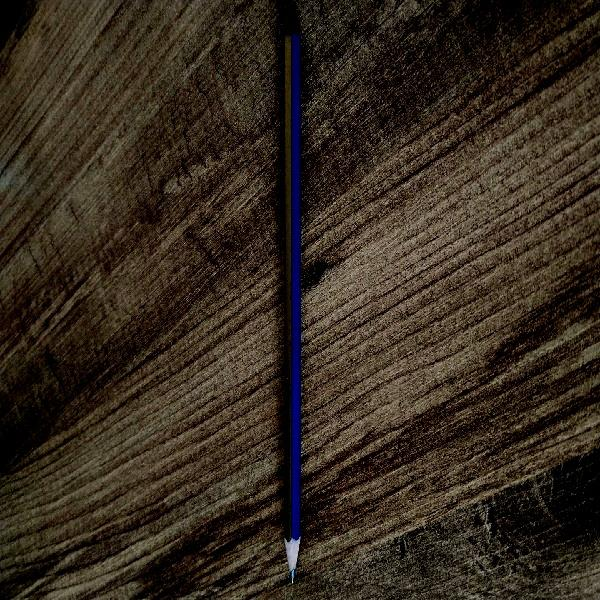pencil: (277, 23, 308, 582)
